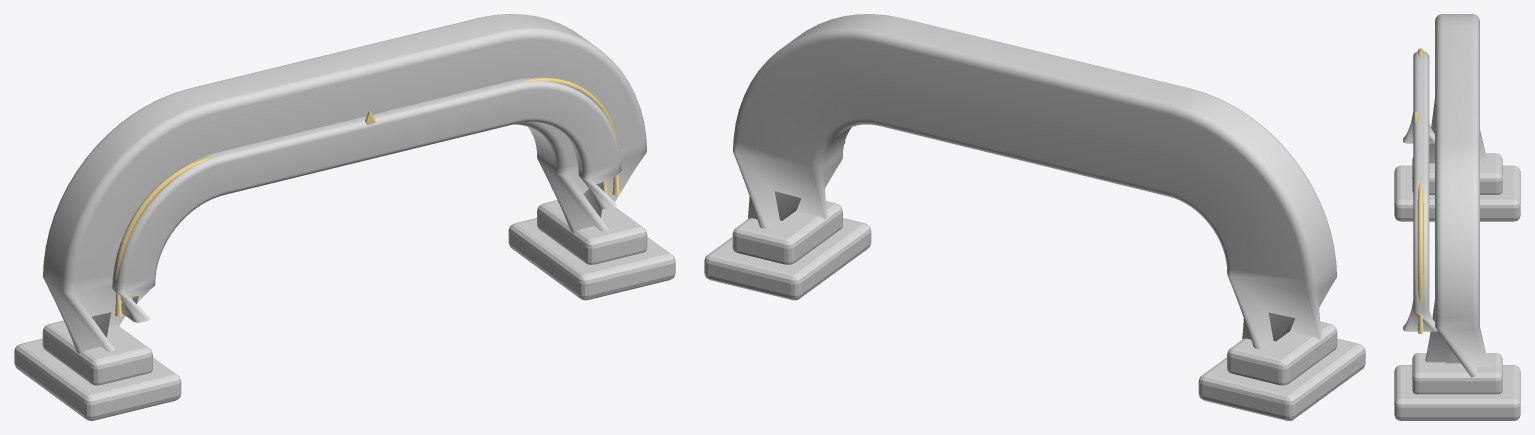
File: arena_football_goal.glb
3 renders of one model, left to right at view 1: azimuth 30°, elevation 25°; view 2: azimuth 150°, elevation 25°; view 3: azimuth 270°, elevation 25°, orthographic. The views are drawn at different scales.
Visible parts, largest first — view 1: AF_Goal_MainFrame, AF_Goal_InnerFrame, AF_Goal_Base_L, AF_Goal_Base_R, AF_Goal_GoldOuter; view 2: AF_Goal_MainFrame, AF_Goal_Base_L, AF_Goal_Base_R; view 3: AF_Goal_MainFrame, AF_Goal_Base_R, AF_Goal_InnerFrame, AF_Goal_Base_L, AF_Goal_GoldOuter.
Boxes of the visible parts, left/top/right/bottom form: AF_Goal_MainFrame: left=43, top=14, right=646, bottom=353; AF_Goal_InnerFrame: left=112, top=78, right=621, bottom=322; AF_Goal_Base_L: left=14, top=320, right=181, bottom=420; AF_Goal_Base_R: left=508, top=200, right=675, bottom=300; AF_Goal_GoldOuter: left=115, top=77, right=619, bottom=316; AF_Goal_MainFrame: left=733, top=14, right=1336, bottom=349; AF_Goal_Base_L: left=1198, top=321, right=1365, bottom=420; AF_Goal_Base_R: left=704, top=201, right=871, bottom=300; AF_Goal_MainFrame: left=1425, top=14, right=1489, bottom=377; AF_Goal_Base_R: left=1394, top=353, right=1520, bottom=420; AF_Goal_InnerFrame: left=1403, top=51, right=1437, bottom=331; AF_Goal_Base_L: left=1394, top=153, right=1520, bottom=221; AF_Goal_GoldOuter: left=1417, top=48, right=1423, bottom=333.
Size of the model in its own units: 5.28 by 2.26 by 1.18.
